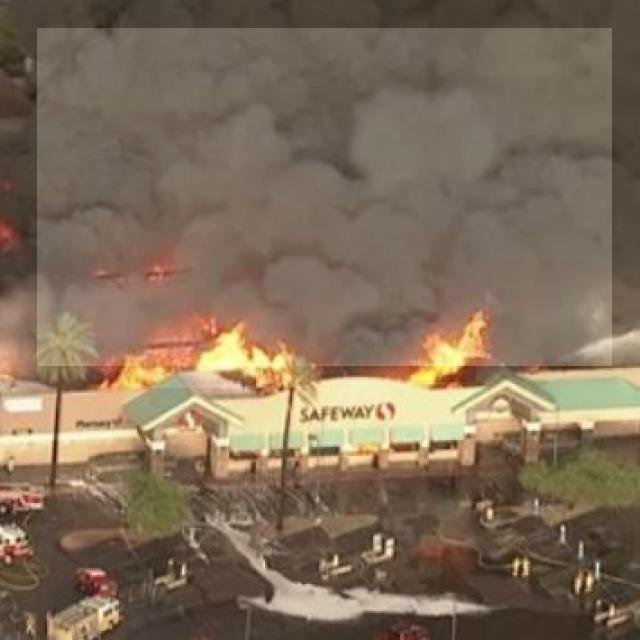Fire: (138, 329, 308, 388), (409, 330, 476, 382)
Smoke: (37, 28, 612, 366)
